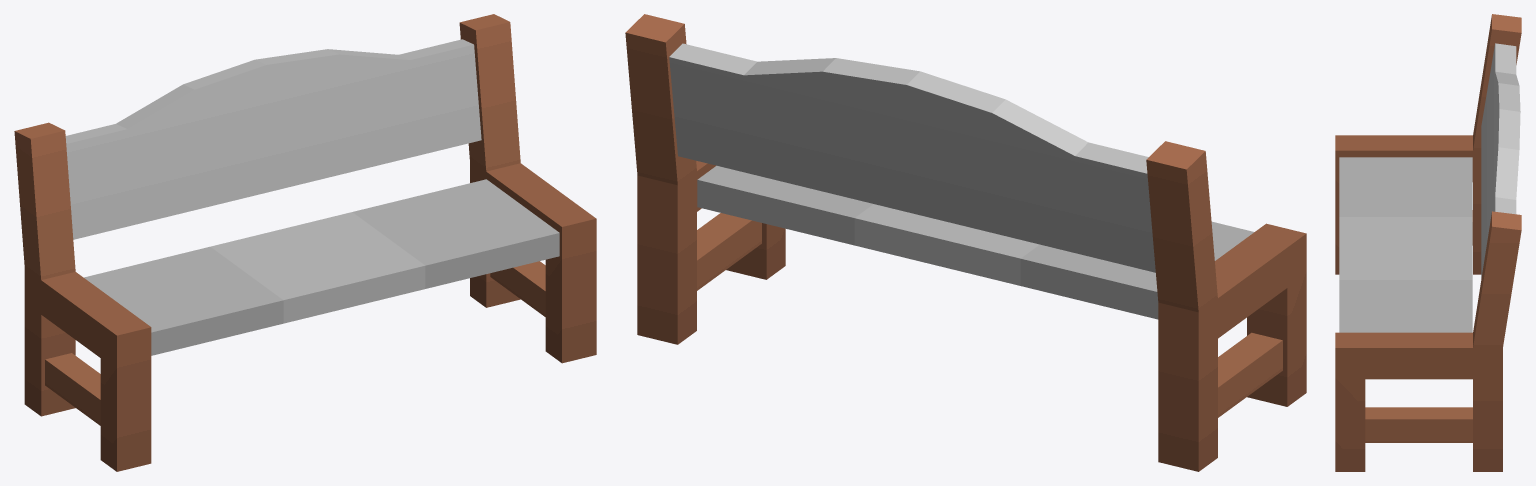
File: bench_1.glb
The picture shows the model from 3 angles, left to right: view 1: azimuth 30°, elevation 25°; view 2: azimuth 150°, elevation 25°; view 3: azimuth 270°, elevation 25°; orthographic projection. The views are drawn at different scales.
Parts seen in each view (by area): view 1: bench 1; view 2: bench 1; view 3: bench 1.
Boxes of the visible parts, x1,y1,x2,y2 form: bench 1: (14, 14, 596, 471); bench 1: (625, 14, 1306, 471); bench 1: (1335, 14, 1521, 471).
Bounding box in the file's own units: 1.86 × 1.05 × 0.6889.
Materials: 1 (1 with a texture image).
